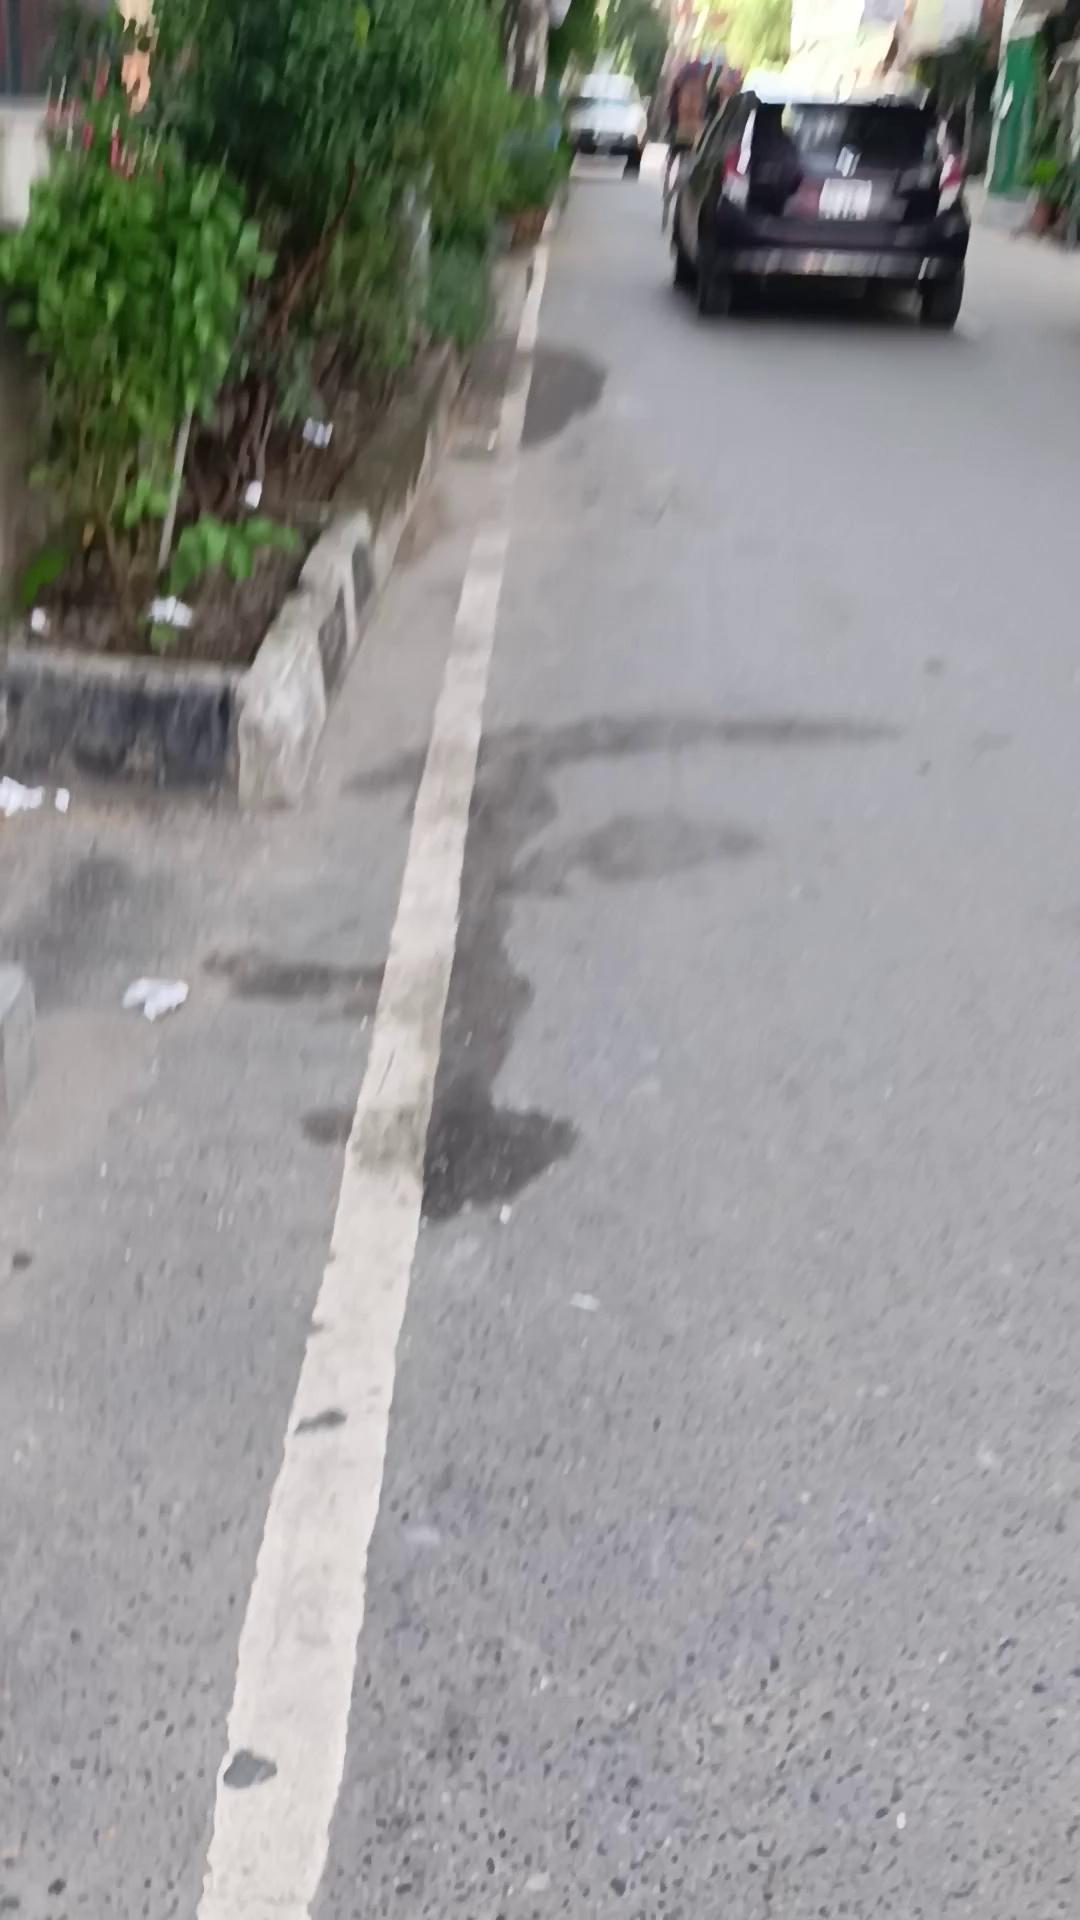Bollard: (662, 87, 972, 330), (562, 71, 647, 160)
Broken-road: (0, 324, 447, 807)
Fallen-tree: (495, 91, 572, 252)
Light-pole: (3, 1, 568, 665)
